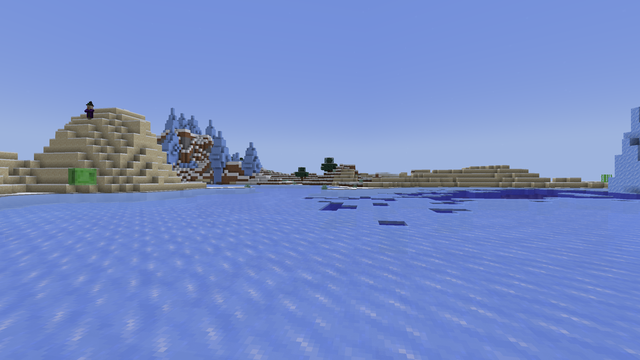slimes: (65, 167, 98, 184)
sorcieres: (85, 104, 93, 119)
